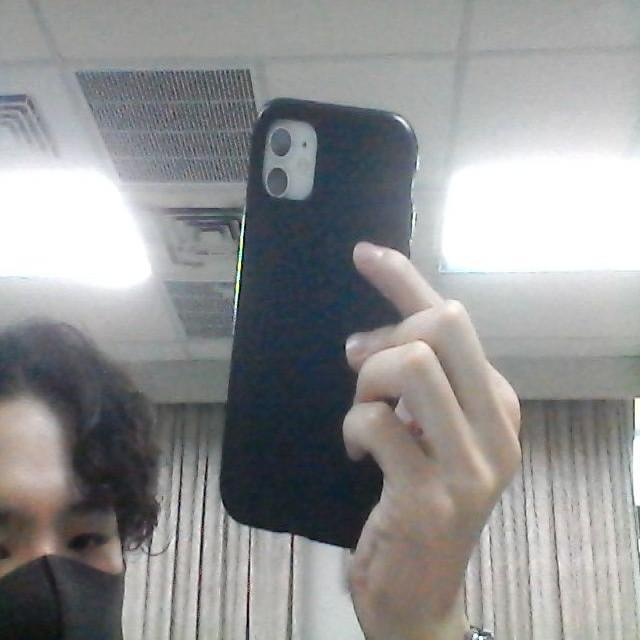Phone: (220, 95, 418, 551)
